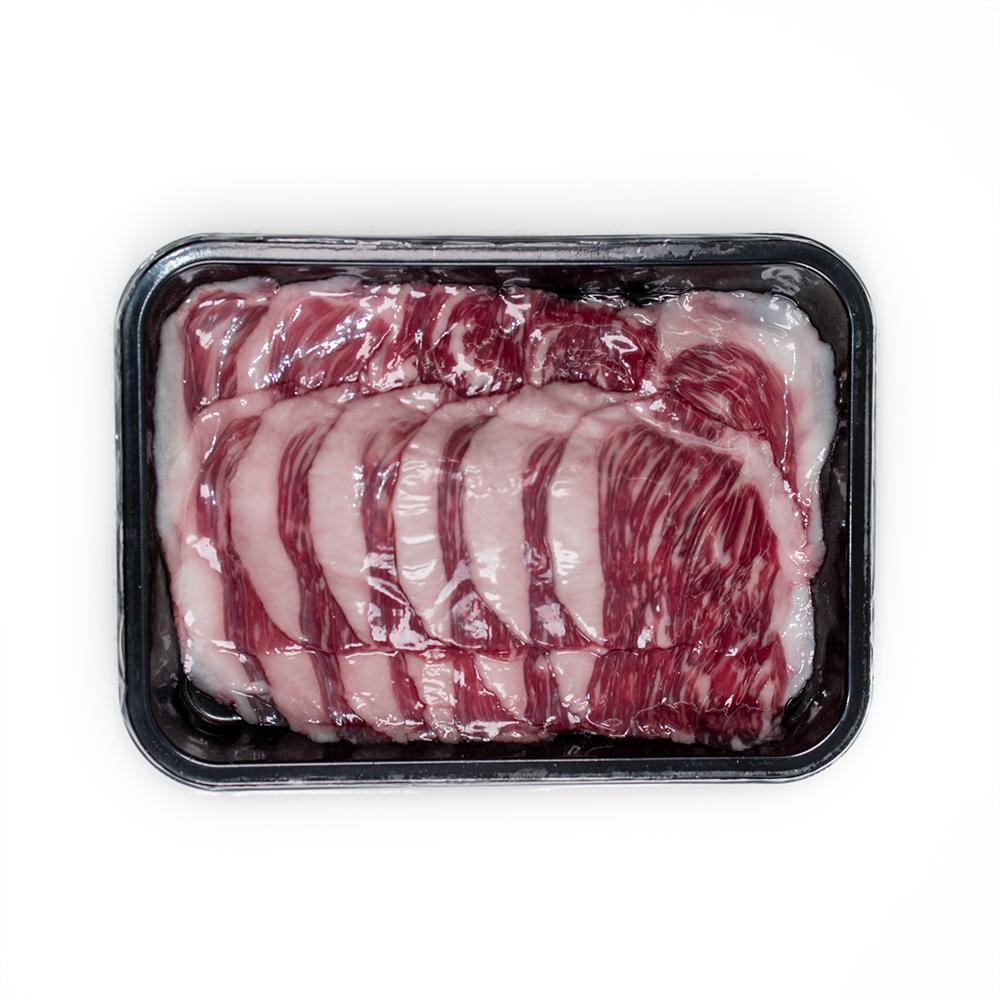beef: (268, 439, 1000, 1000)
